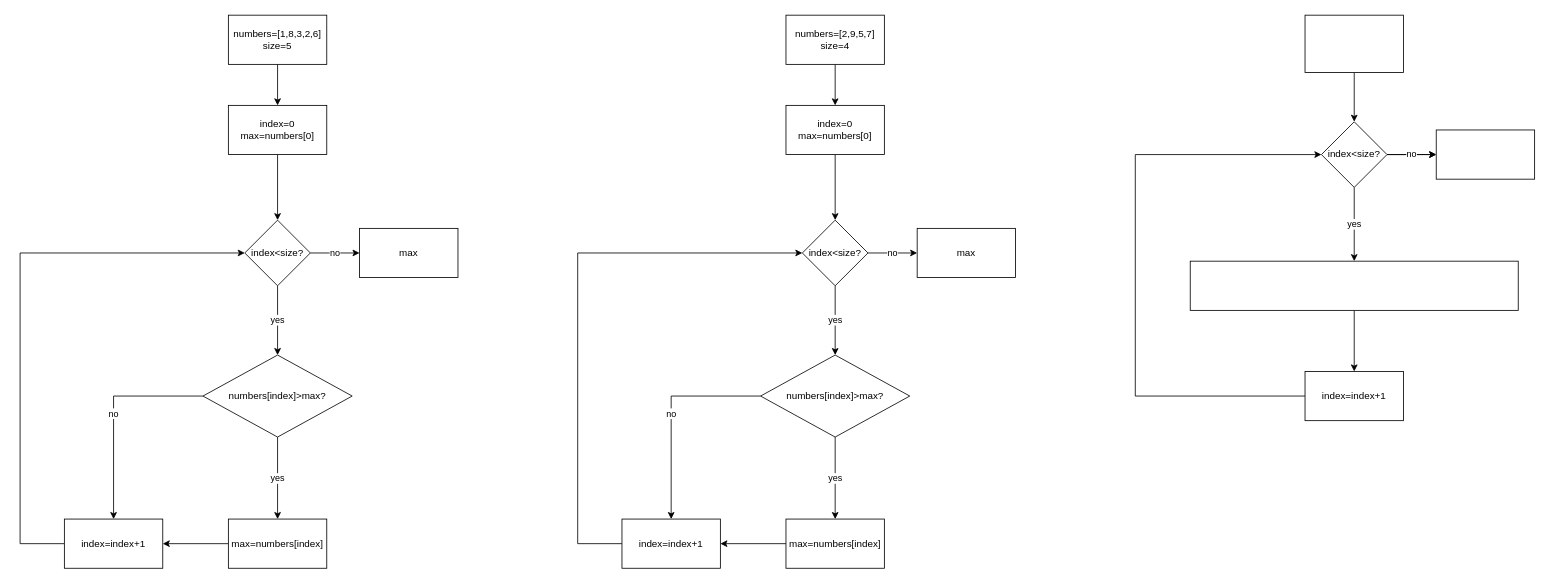
Some shapes in this 1549 by 583 pixel diagram are drawn without their labels. The shapes that lost their labels are listed below. From the top down, each one's box as (x1, y1, x2, y2) in pixels, then its label:
(1304, 14, 1403, 73): firstVector=[1,8] secondVector=[6,3] size=2 scalarProduct=0 index=0
(1435, 129, 1535, 179): print(scalarProduct)
(1189, 260, 1518, 310): scalarProduct= scalarProduct+firstVector[index]*secondVector[index]
